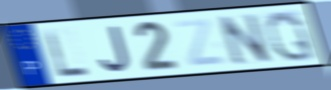2: (136, 19, 183, 74)
J: (98, 23, 133, 74)
L: (41, 27, 91, 80)
N: (215, 12, 274, 67)
Q: (263, 9, 319, 63)
Z: (171, 17, 230, 69)
